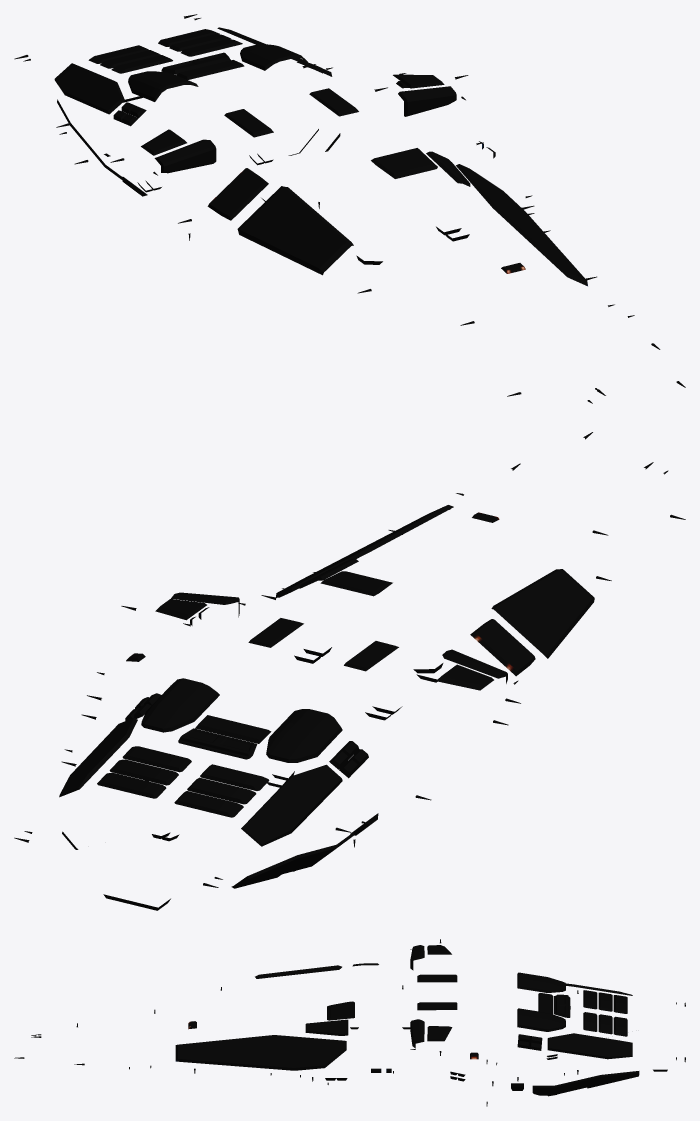
Rendered from hgn_flagship_carrier_04.glb.
3 views of the same model, one above another, from view 1: azimuth 30°, elevation 25°; view 2: azimuth 150°, elevation 25°; view 3: azimuth 270°, elevation 25° (orthographic). The views are drawn at different scales.
Visible parts, largest first — view 1: hgn_fs_carrier_04_LOD0; view 2: hgn_fs_carrier_04_LOD0; view 3: hgn_fs_carrier_04_LOD0.
Part boxes in pixels (x1,y1,x2,y2): hgn_fs_carrier_04_LOD0: (14,14,685,403); hgn_fs_carrier_04_LOD0: (14,432,685,910); hgn_fs_carrier_04_LOD0: (14,939,685,1106).
Size of what is drawn, in the model's own units: 7.5 by 2.93 by 18.28.
Materials: 1 (1 with a texture image).
